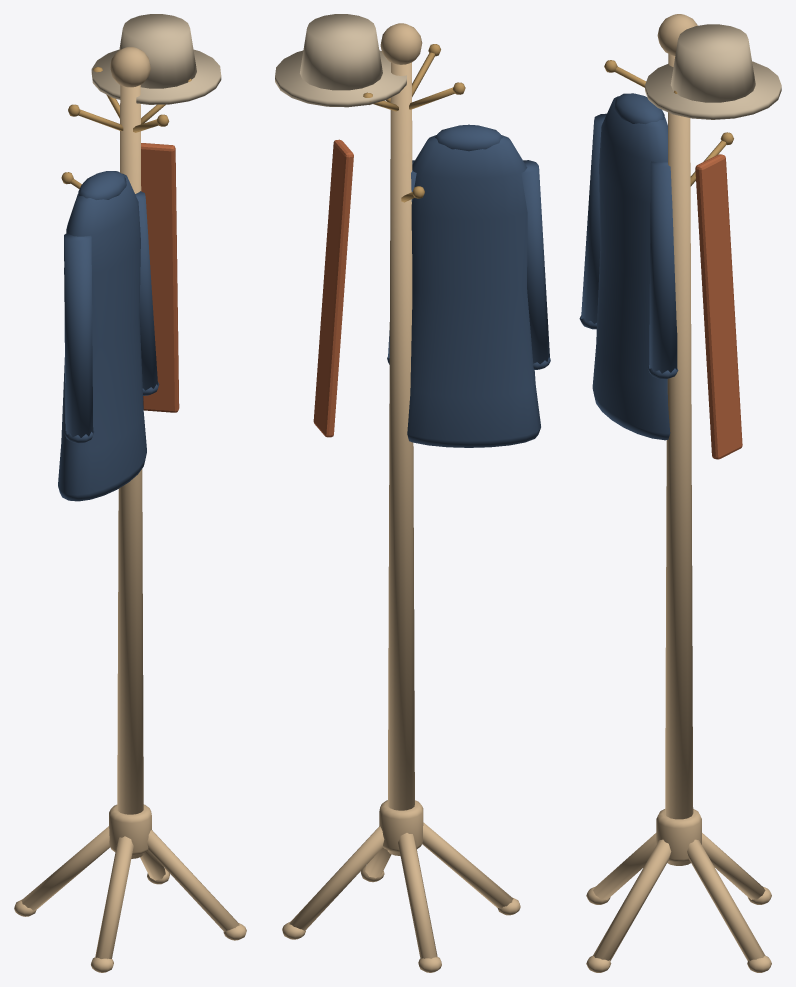
The model's file is coatRack.glb.
3 renders of one model, left to right at view 1: azimuth 30°, elevation 25°; view 2: azimuth 150°, elevation 25°; view 3: azimuth 270°, elevation 25°, orthographic. The views are drawn at different scales.
Visible parts, largest first — view 1: coatRack; view 2: coatRack; view 3: coatRack.
Boxes of the visible parts, box(x1,y1,x2,y2) form: coatRack: box(14, 14, 246, 972); coatRack: box(275, 14, 550, 972); coatRack: box(579, 14, 781, 972).
Bounding box in the file's own units: 0.4306 × 1.79 × 0.3553.
